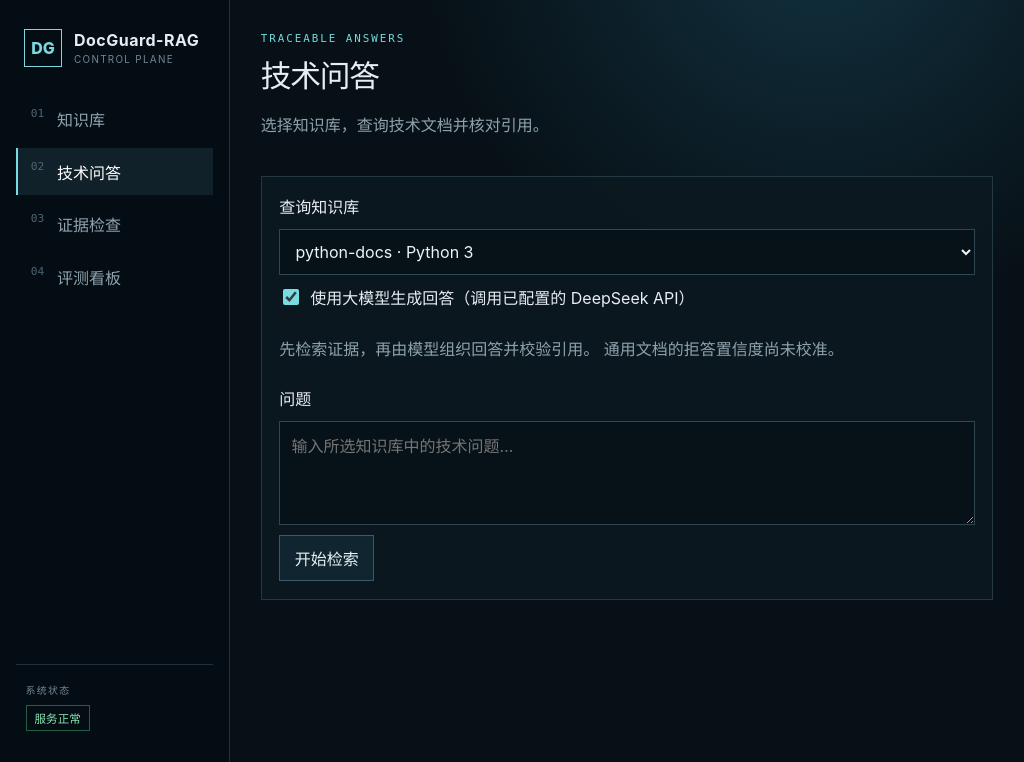
Test: deleting a knowledge base clears the selected query target and ignores its pending answer
The image size is (1024, 762).
In the text box labelled "问题": (627,473) [279, 420, 975, 525], type "read ini"
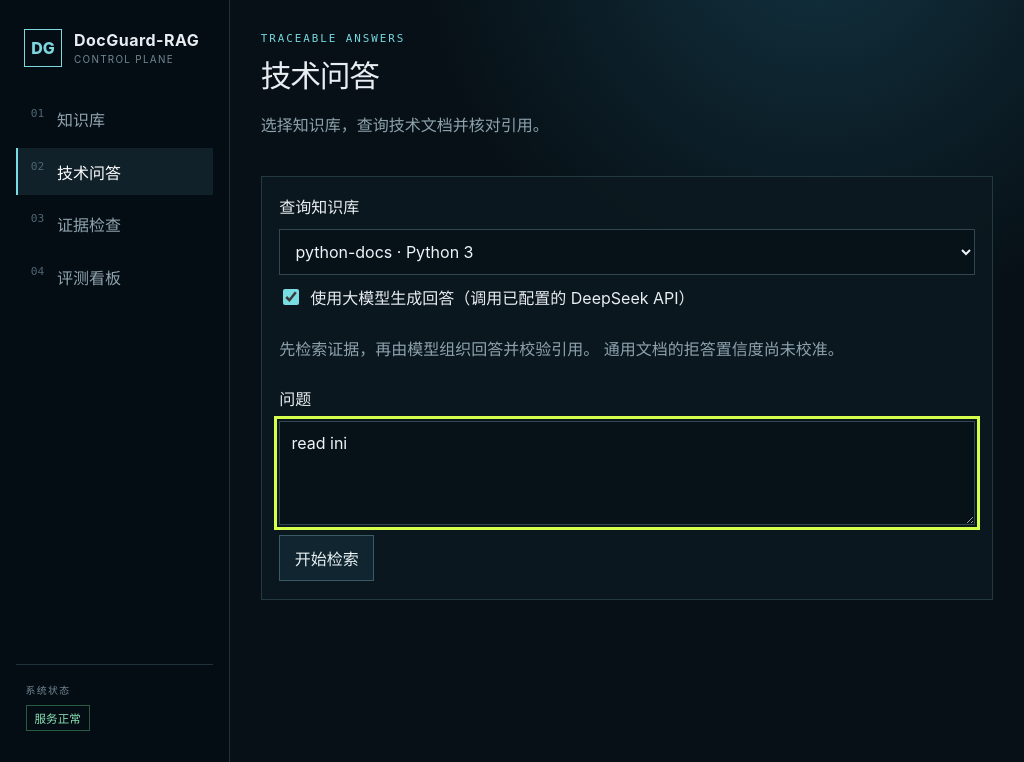
Click the button "开始检索": (327,558) [279, 535, 374, 581]
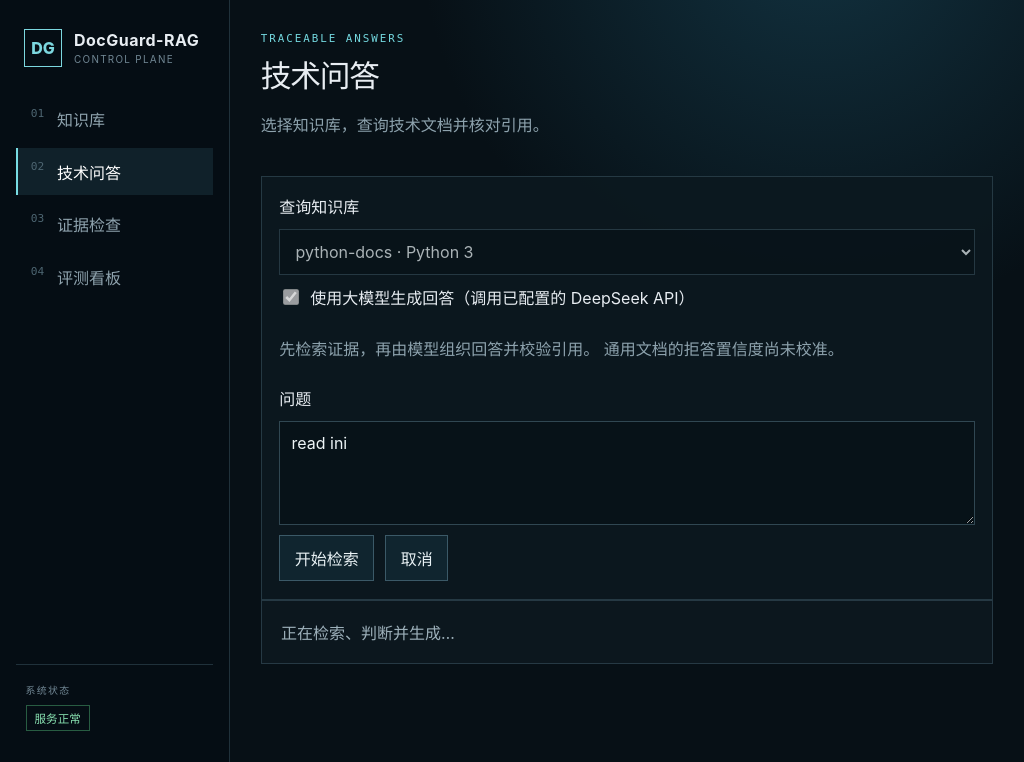
Click the link "01 知识库": (68,119) [31, 107, 105, 130]
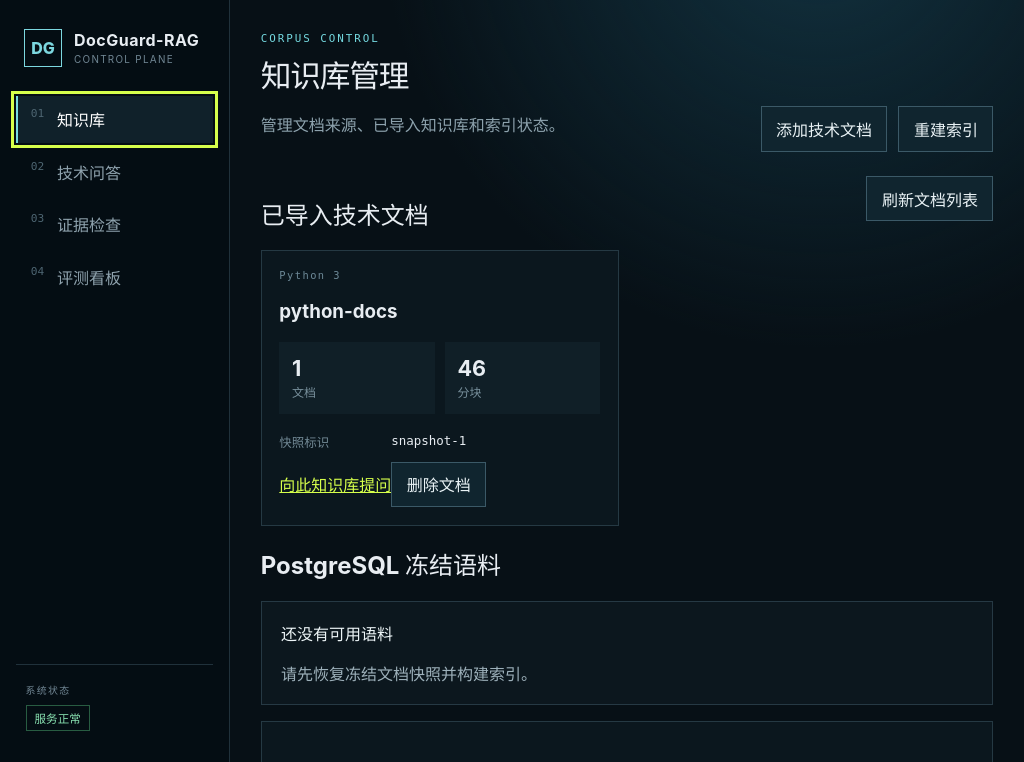
Click the button with aria-label "删除 python-docs": (439,484) [391, 462, 486, 507]
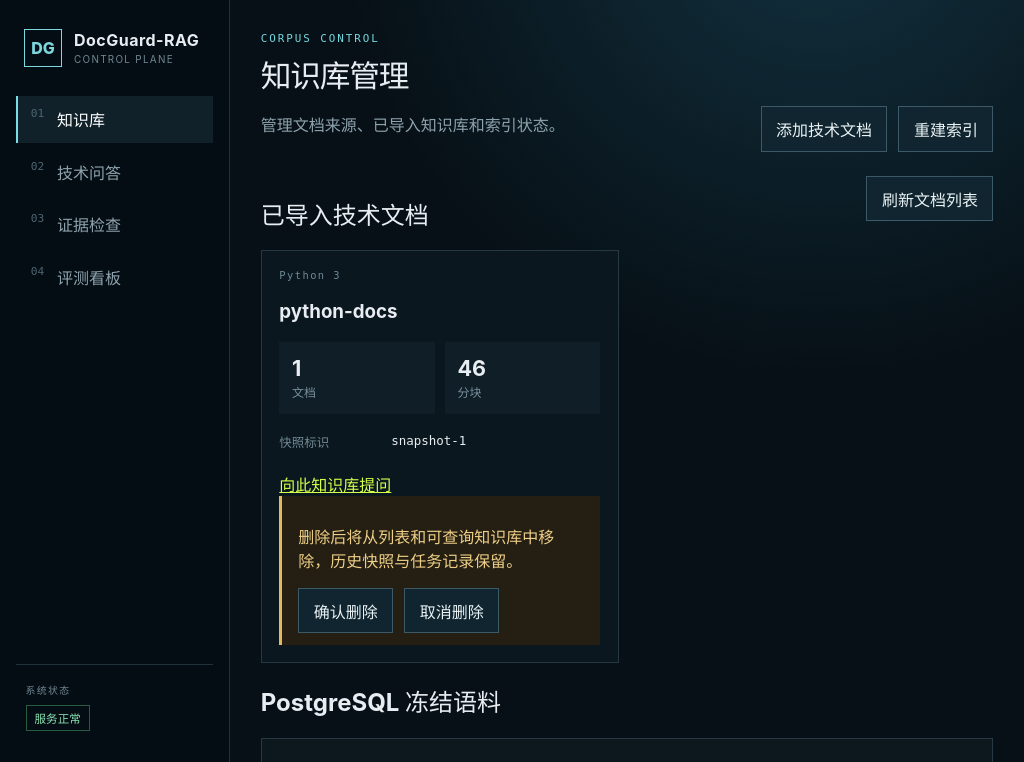
Click the button "确认删除": (346,611) [298, 588, 393, 634]
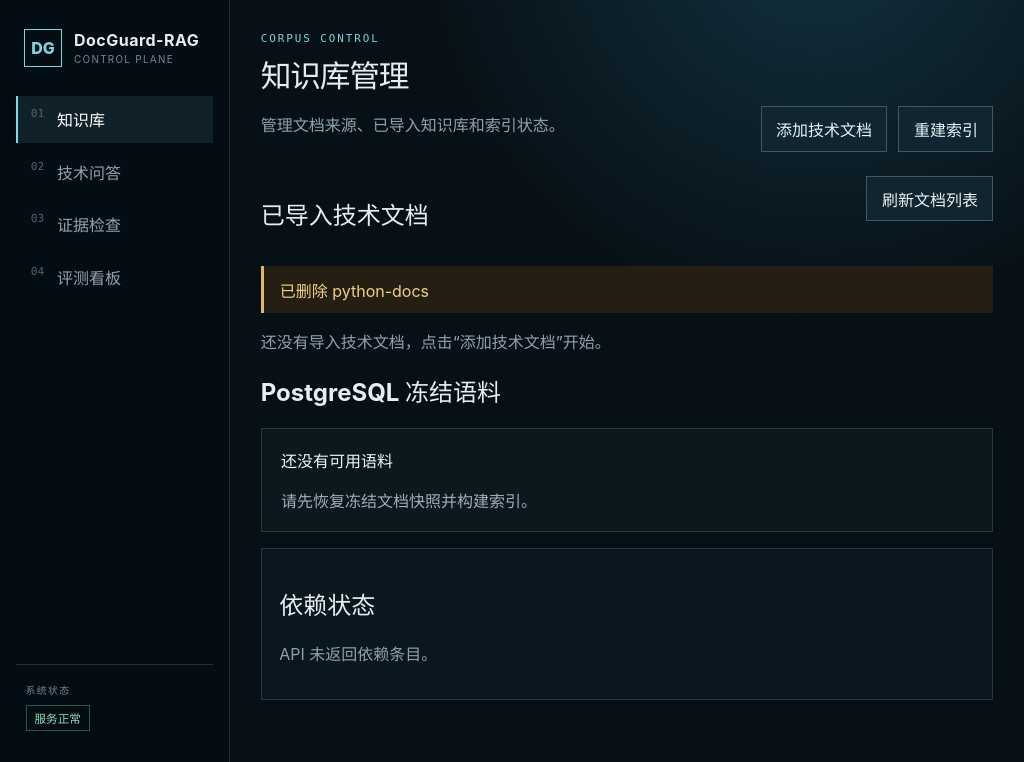
Expected: the text "已删除 python-docs" is shown, [261, 266, 993, 313]
Click the link "02 技术问答": (76,171) [31, 160, 121, 183]
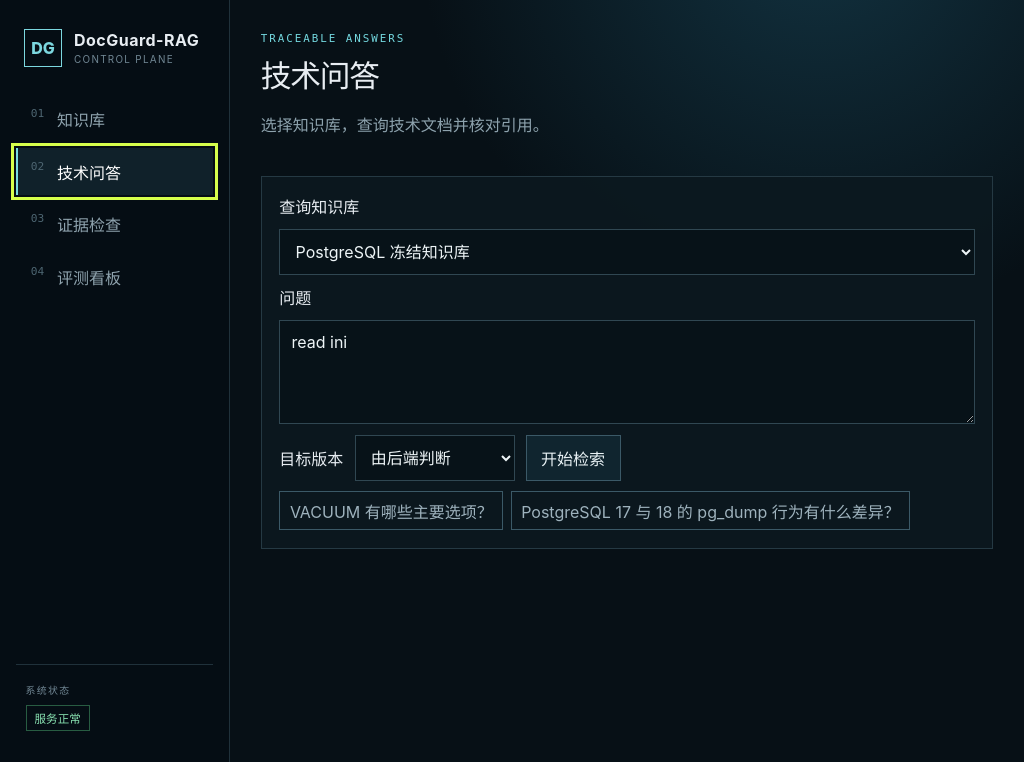
Expected: the dropdown labelled "查询知识库" shows "PostgreSQL 冻结知识库", [279, 229, 975, 275]
Expected: the button "开始检索" is enabled, [526, 435, 620, 481]
